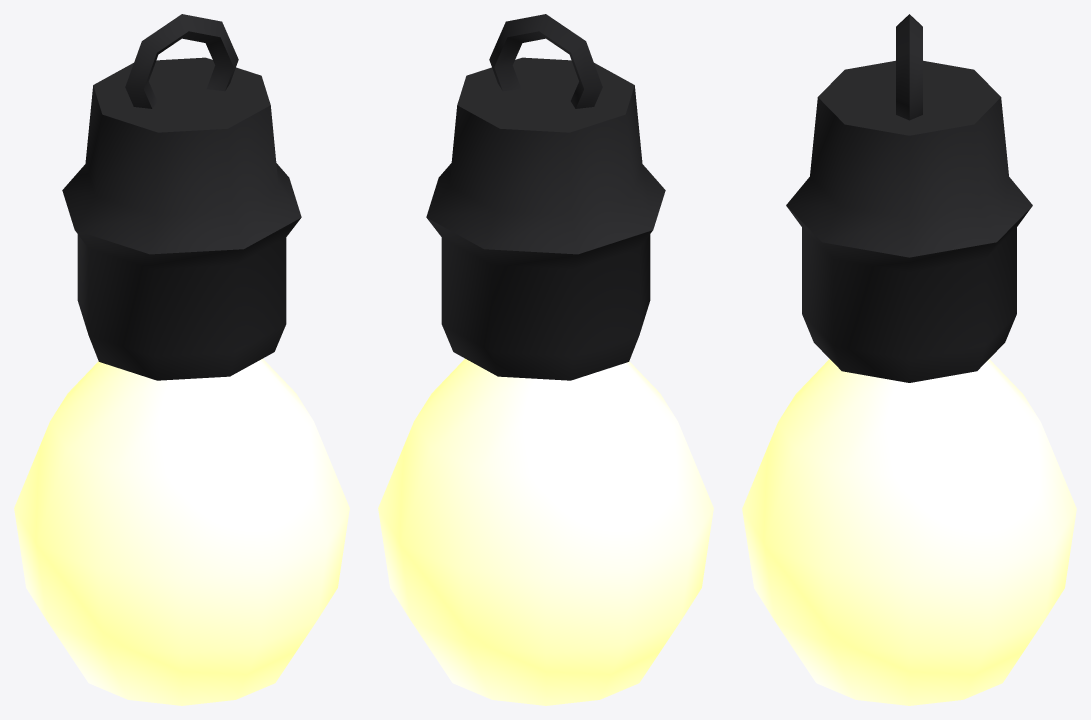
Rendered from string-bulb.glb.
The picture shows the model from 3 angles, left to right: view 1: azimuth 30°, elevation 25°; view 2: azimuth 150°, elevation 25°; view 3: azimuth 270°, elevation 25°; orthographic projection.
Parts seen in each view (by area): view 1: SM_Jam_StringBulb; view 2: SM_Jam_StringBulb; view 3: SM_Jam_StringBulb.
Part boxes in pixels (x1=…): SM_Jam_StringBulb: x1=14, y1=14, x2=349, y2=705; SM_Jam_StringBulb: x1=378, y1=14, x2=713, y2=705; SM_Jam_StringBulb: x1=742, y1=14, x2=1076, y2=705.
Size of the model in its own units: 0.042 by 0.0942 by 0.042.
